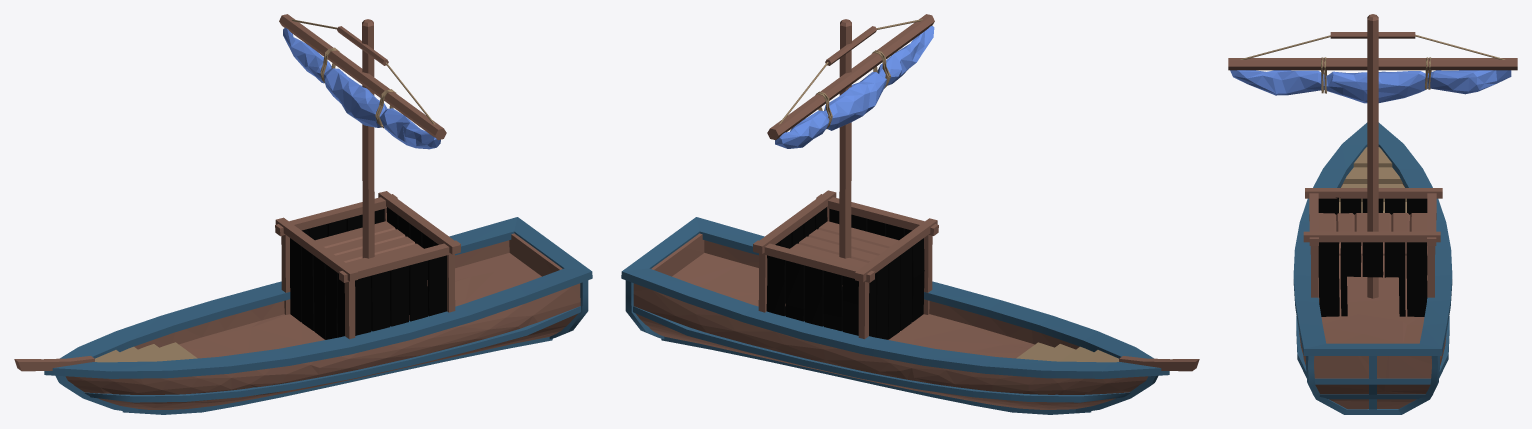
File: boat_3.fbx
The picture shows the model from 3 angles, left to right: view 1: azimuth 30°, elevation 25°; view 2: azimuth 150°, elevation 25°; view 3: azimuth 270°, elevation 25°; orthographic projection. The views are drawn at different scales.
Visible parts, largest first — view 1: boat_03; view 2: boat_03; view 3: boat_03.
Boxes of the visible parts, bbox=[...] form: boat_03: bbox=[14, 14, 592, 414]; boat_03: bbox=[621, 14, 1199, 414]; boat_03: bbox=[1228, 14, 1517, 414].
Size of the model in its own units: 1848 by 1139 by 928.
